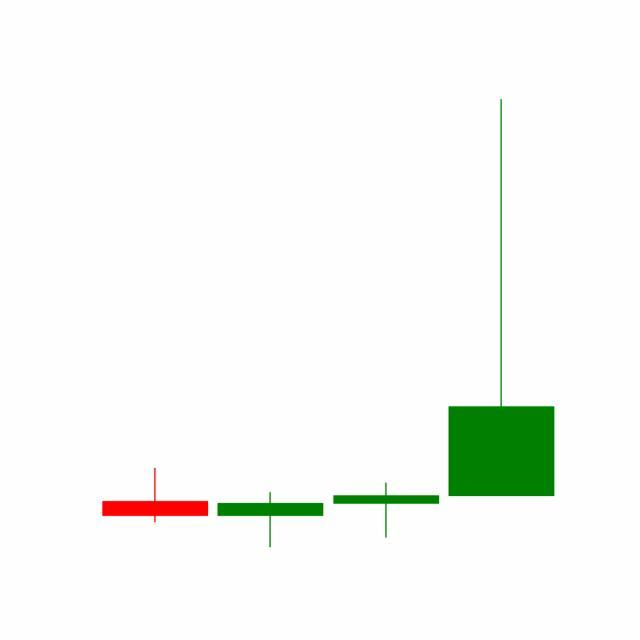Hanging Man: (329, 482, 445, 539)
